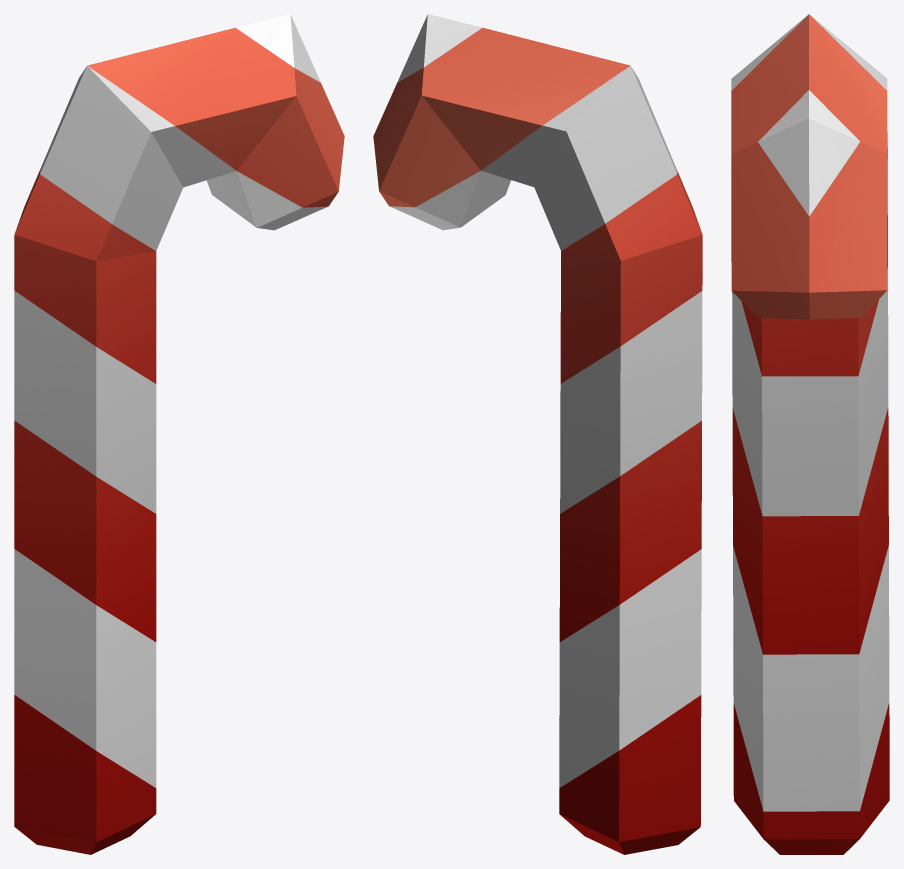
3 views of the same model, side by side, from view 1: azimuth 30°, elevation 25°; view 2: azimuth 150°, elevation 25°; view 3: azimuth 270°, elevation 25° (orthographic). The views are drawn at different scales.
Visible parts, largest first — view 1: smMAT0110032; view 2: smMAT0110032; view 3: smMAT0110032.
Boxes of the visible parts, <box> form: smMAT0110032: <box>14,14,344,854</box>; smMAT0110032: <box>373,14,702,854</box>; smMAT0110032: <box>731,14,889,854</box>.
Size of the model in its own units: 32.03 by 71.41 by 12.4.
Materials: 1 (1 with a texture image).
